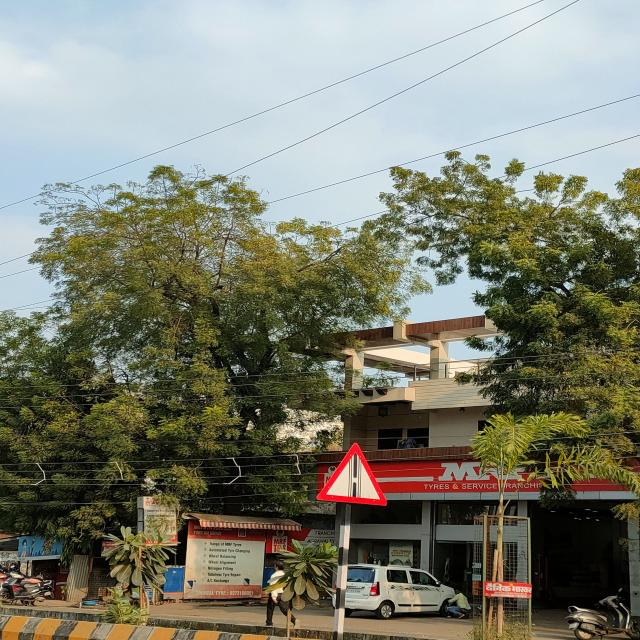ferry: (316, 442, 390, 506)
